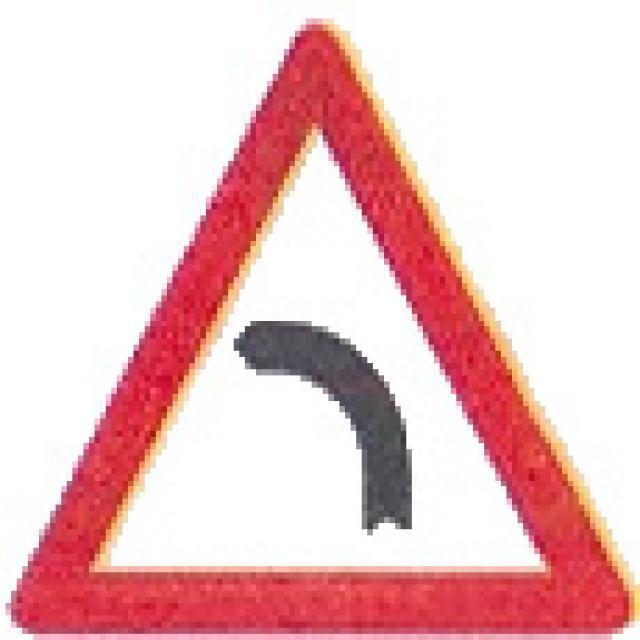left hand curve: (31, 16, 606, 621)
